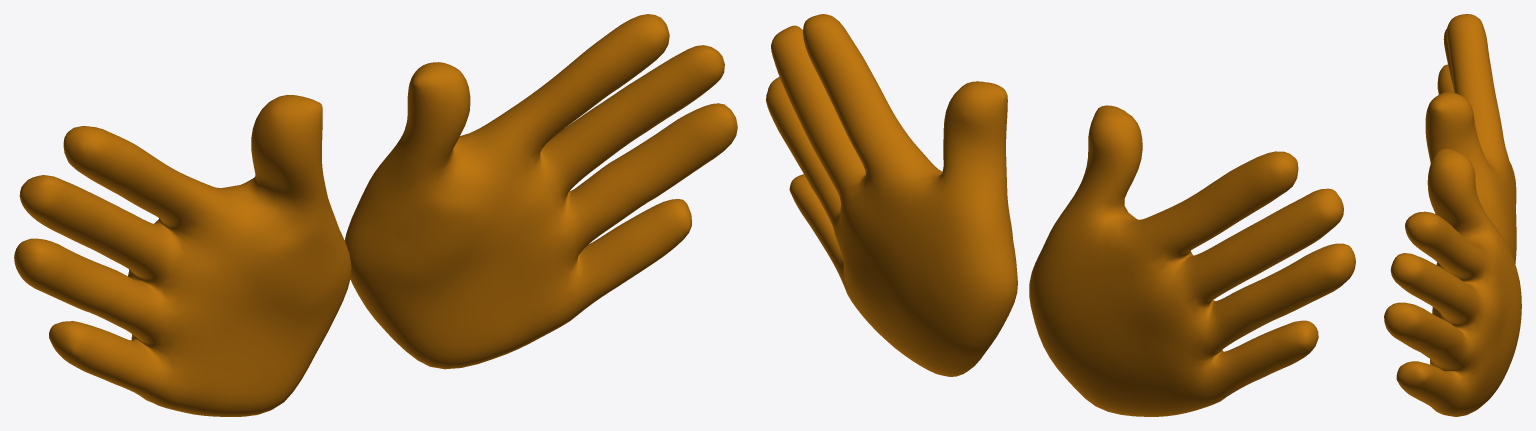
File: OPEN HANDS.FBX
3 views of the same model, side by side, from view 1: azimuth 30°, elevation 25°; view 2: azimuth 150°, elevation 25°; view 3: azimuth 270°, elevation 25° (orthographic). The views are drawn at different scales.
Visible parts, largest first — view 1: HAND; view 2: HAND; view 3: HAND.
Part boxes in pixels (x1=…): HAND: x1=14, y1=14, x2=737, y2=416; HAND: x1=766, y1=14, x2=1355, y2=416; HAND: x1=1384, y1=14, x2=1521, y2=416.
Size of the model in its own units: 21.13 by 9.84 by 4.86.
